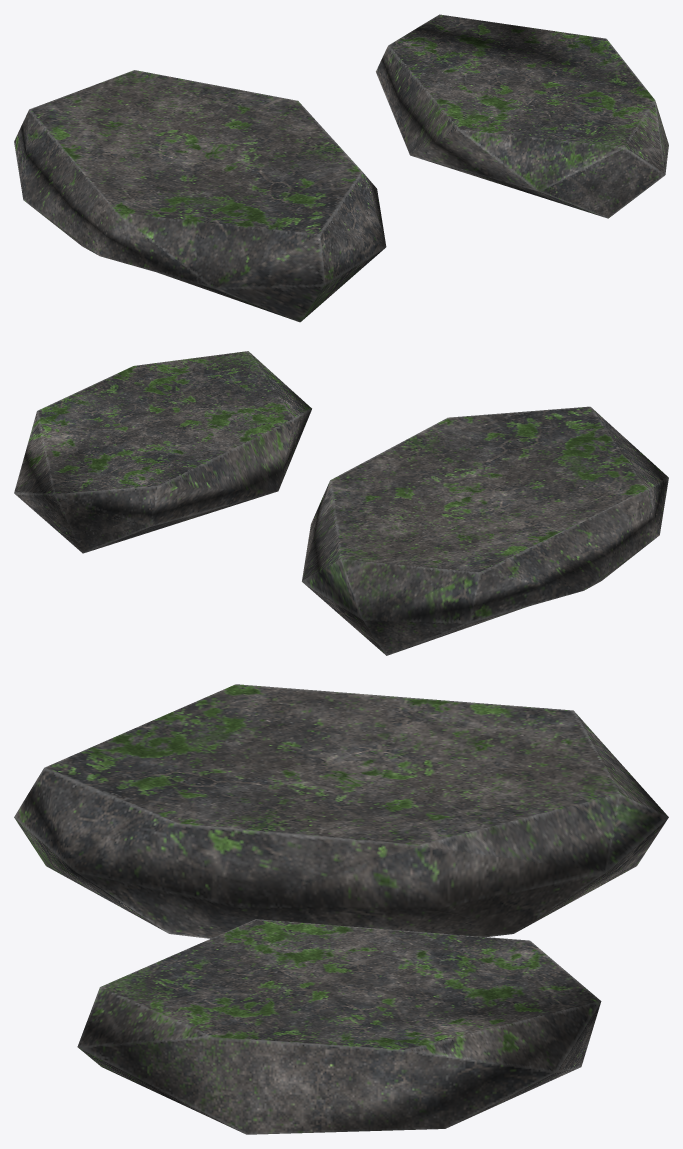
Rendered from stones.fbx.
The picture shows the model from 3 angles, top to bottom: view 1: azimuth 30°, elevation 25°; view 2: azimuth 150°, elevation 25°; view 3: azimuth 270°, elevation 25°; orthographic projection. The views are drawn at different scales.
Visible parts, largest first — view 1: stone1; view 2: stone1; view 3: stone1.
Part boxes in pixels (<box>): stone1: <box>14,14,668,322</box>; stone1: <box>14,351,668,655</box>; stone1: <box>14,684,668,1134</box>.
Size of the model in its own units: 66.1 by 9.66 by 49.81.
Materials: 1 (1 with a texture image).
